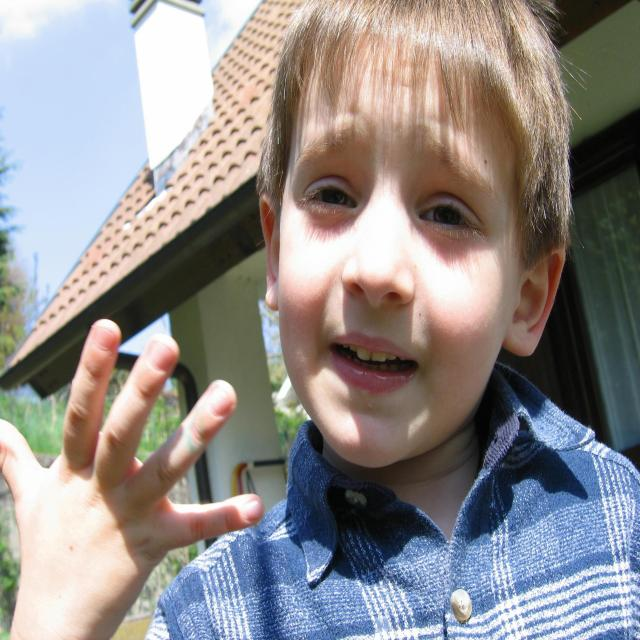no-glass: (301, 176, 481, 240)
